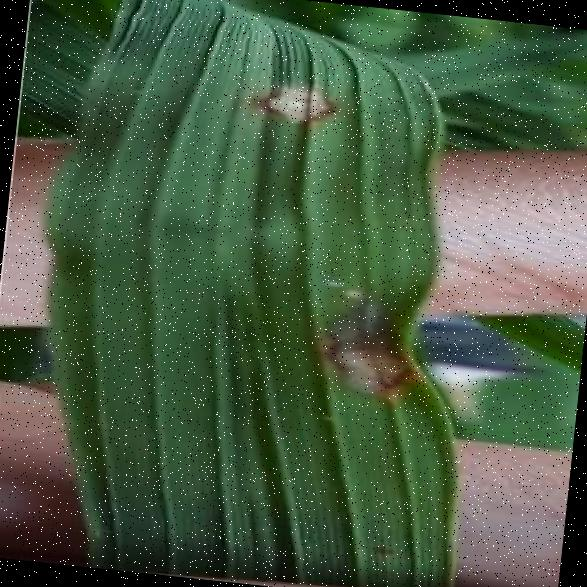Leaf_smut: (266, 262, 425, 419), (218, 46, 358, 160)
